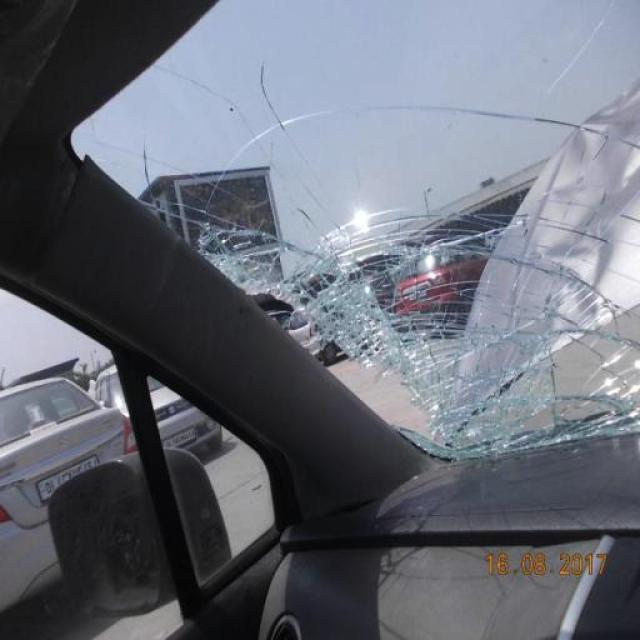car damage: (192, 230, 640, 464)
